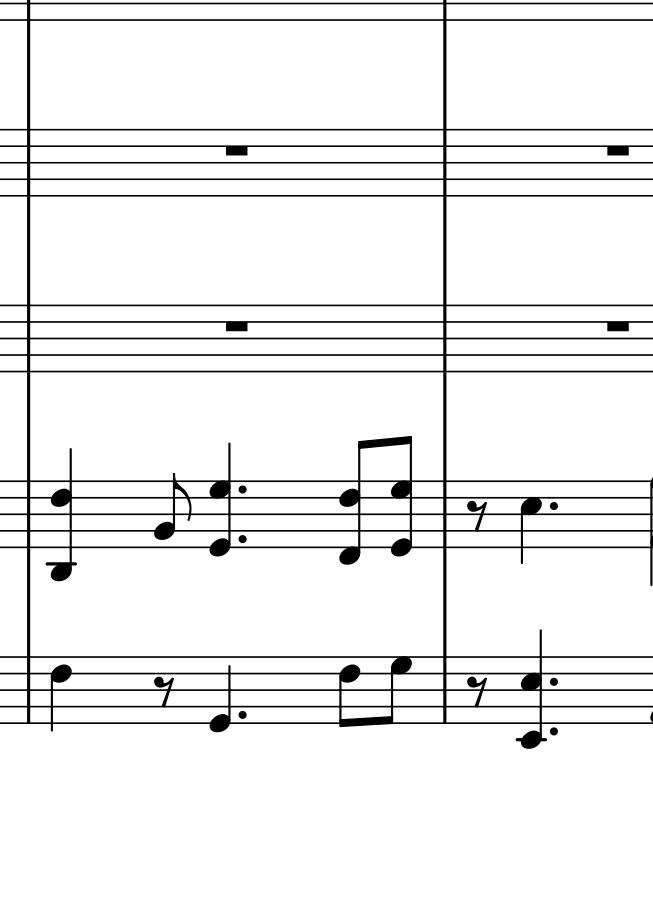4_-1_7: (209, 442, 232, 556)
4_-3_6: (48, 448, 77, 582)
4_0: (208, 654, 234, 735)
4_5: (518, 480, 542, 567)
4_6: (48, 655, 72, 731)
8_-1_6: (339, 439, 374, 566)
8_0_7: (391, 436, 413, 557)
8_2: (154, 472, 191, 548)
8_6: (337, 655, 361, 730)
8_7: (383, 655, 412, 726)
Rests1: (221, 317, 251, 335), (602, 141, 633, 158), (602, 317, 632, 334), (222, 142, 251, 158)
Rests8: (464, 499, 491, 535), (465, 673, 492, 709), (153, 674, 177, 709)
Single_barline: (435, 305, 453, 370), (436, 480, 453, 547), (19, 305, 36, 371), (20, 479, 36, 549), (436, 130, 453, 194), (20, 130, 36, 195), (437, 656, 452, 722), (21, 657, 36, 723)
dot: (234, 482, 250, 497), (236, 531, 249, 547), (548, 724, 561, 739), (547, 499, 560, 513), (548, 675, 561, 688), (236, 708, 249, 721)
